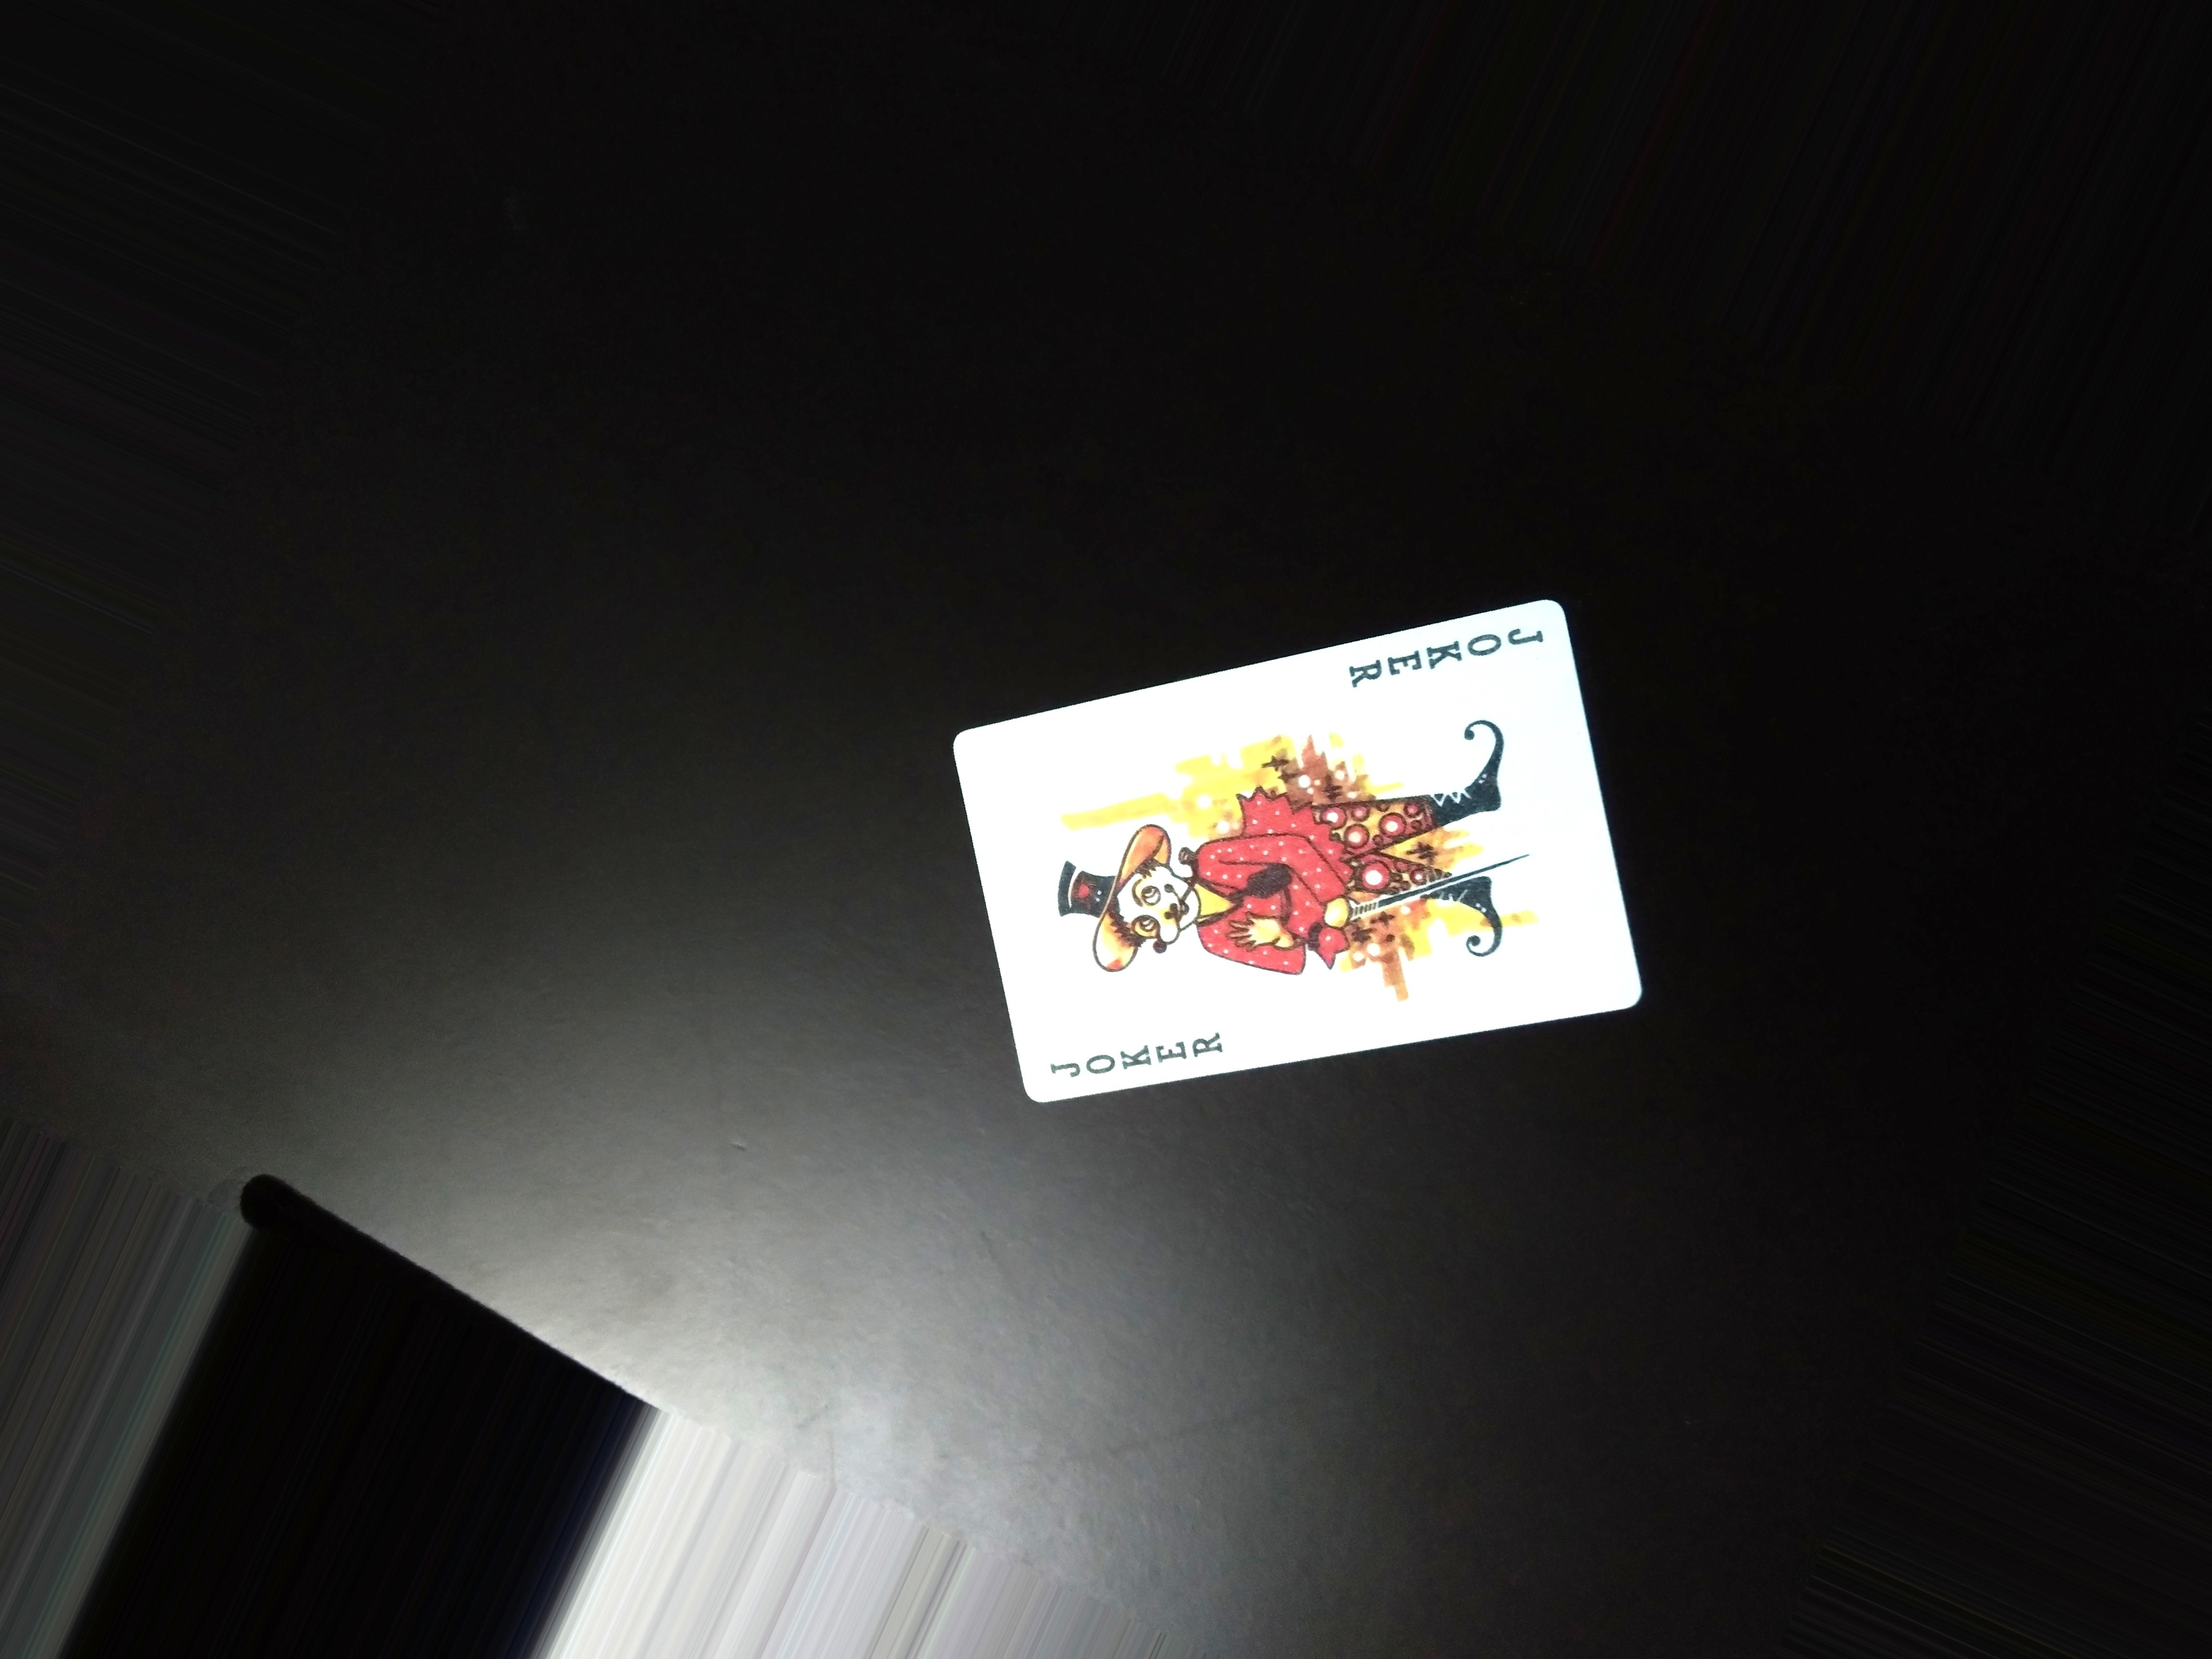JOKER: (1343, 608, 1548, 701)
